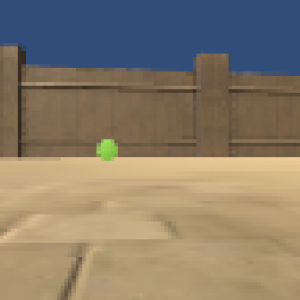goodGoal: (94, 137, 120, 160)
